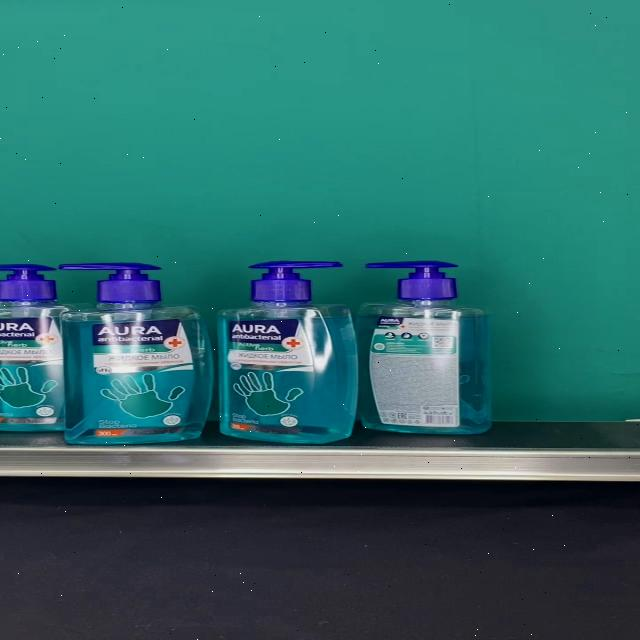Bottle: (61, 263, 214, 444), (218, 261, 359, 444), (356, 260, 492, 434), (0, 263, 94, 431)
Cap: (249, 261, 345, 302), (57, 262, 158, 300), (364, 261, 457, 301), (0, 264, 57, 300)
